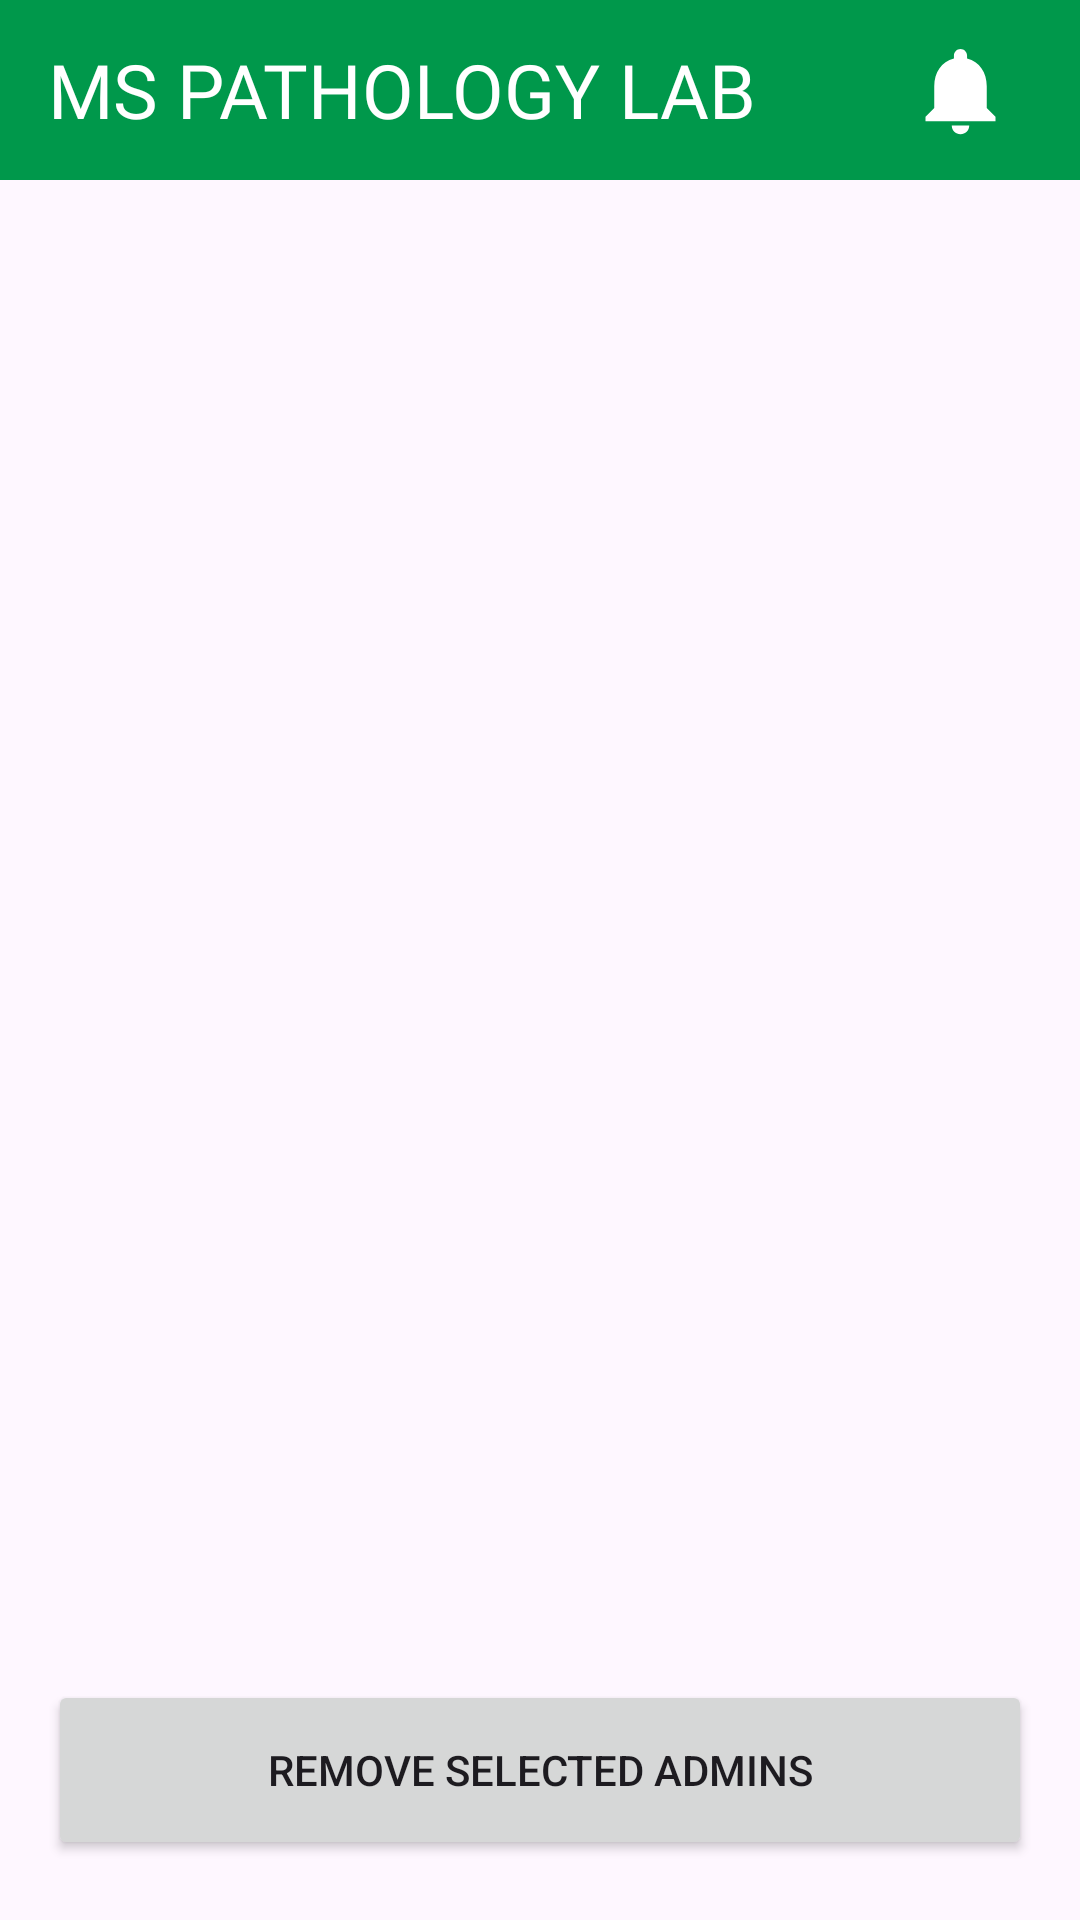

Where to tap for icons on this 1080×1920 app screen, as (x,y):
Notification Button: (960,92)
